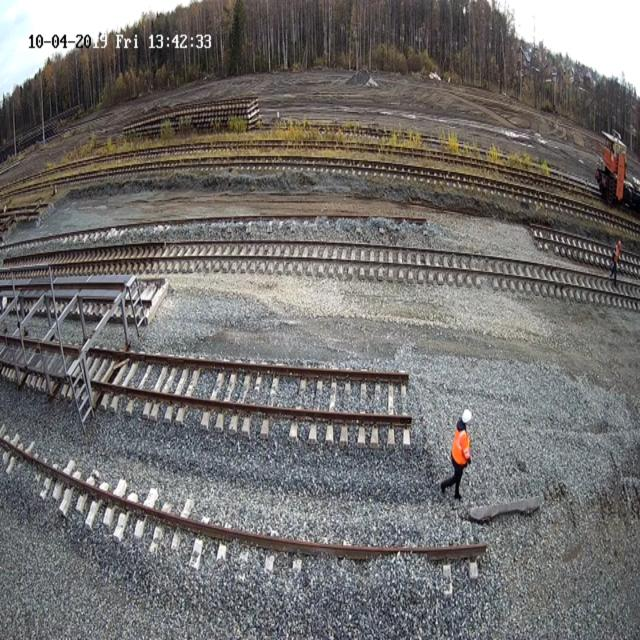Helmet: (462, 408, 472, 424)
Person: (440, 412, 471, 500), (610, 239, 622, 285)
